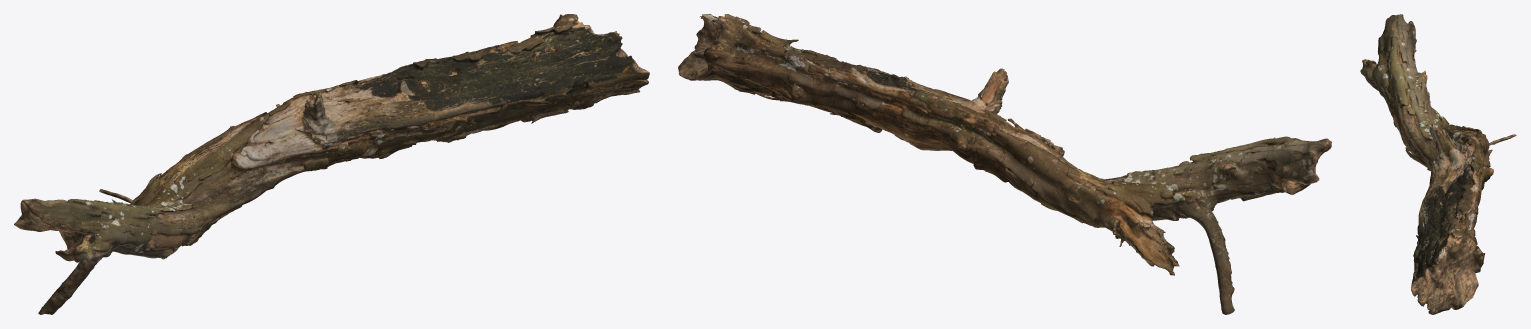
The model's file is dead_tree_trunk_02_1k.gltf.
3 renders of one model, left to right at view 1: azimuth 30°, elevation 25°; view 2: azimuth 150°, elevation 25°; view 3: azimuth 270°, elevation 25°, orthographic. The views are drawn at different scales.
Visible parts, largest first — view 1: dead_tree_trunk_02; view 2: dead_tree_trunk_02; view 3: dead_tree_trunk_02.
Boxes of the visible parts, left/top/right/bottom form: dead_tree_trunk_02: left=14, top=14, right=649, bottom=314; dead_tree_trunk_02: left=678, top=14, right=1331, bottom=314; dead_tree_trunk_02: left=1360, top=14, right=1516, bottom=314.
Size of the model in its own units: 4.05 by 1.06 by 1.06.
1 material, 1 textured.
